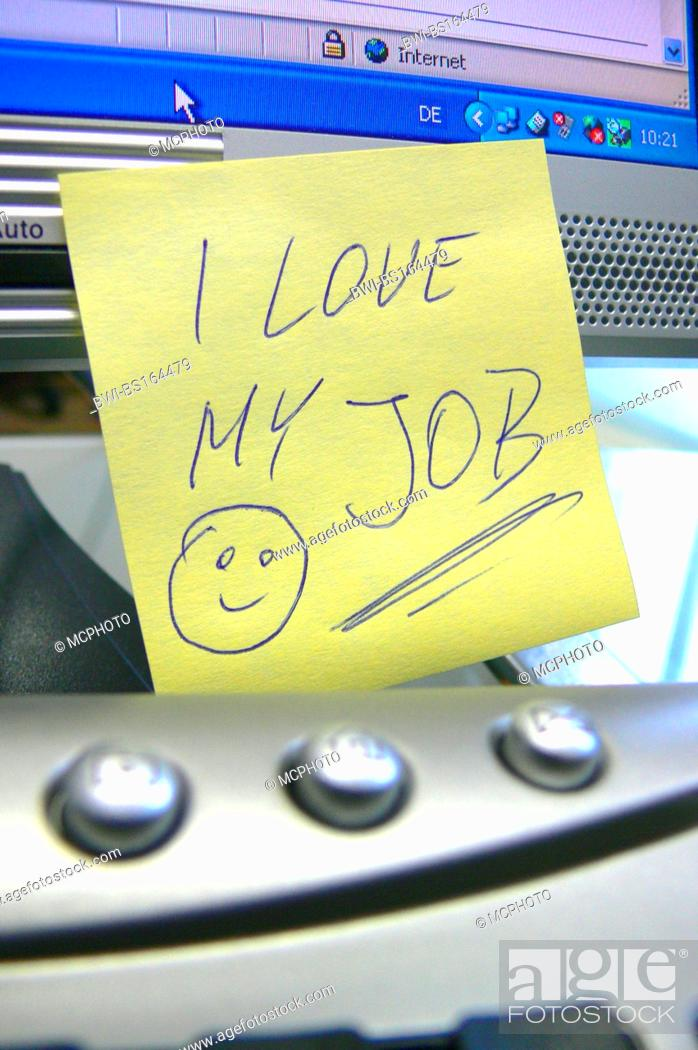Note: (57, 139, 639, 686)
